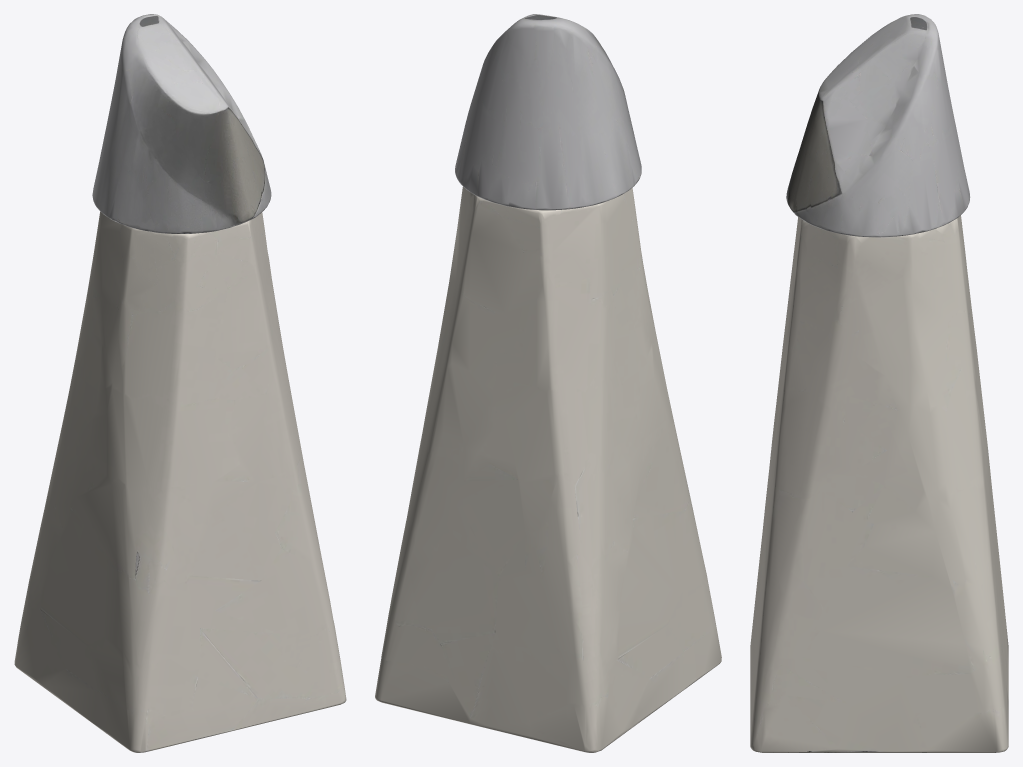
Rendered from pawn-white.glb.
3 renders of one model, left to right at view 1: azimuth 30°, elevation 25°; view 2: azimuth 150°, elevation 25°; view 3: azimuth 270°, elevation 25°, orthographic. The views are drawn at different scales.
Size of the model in its own units: 0.3811 by 1.1 by 0.3838.
Materials: 1 (1 with a texture image).
